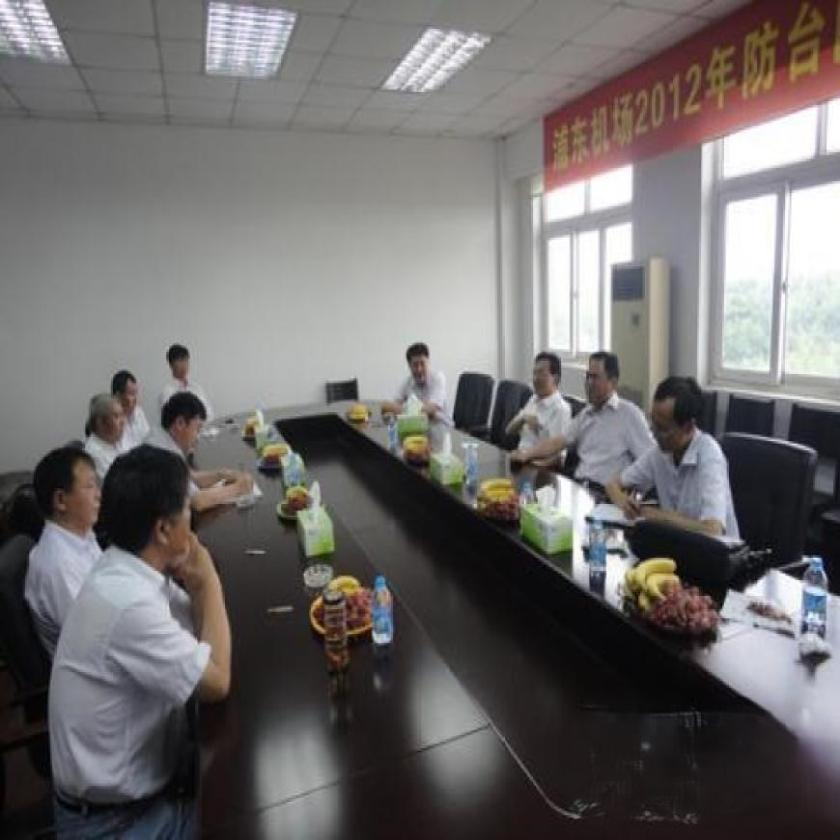Sin_casco: (110, 446, 195, 570), (40, 445, 102, 524), (650, 370, 705, 452), (578, 335, 624, 409), (159, 390, 207, 458), (398, 333, 439, 384), (529, 340, 562, 401)
